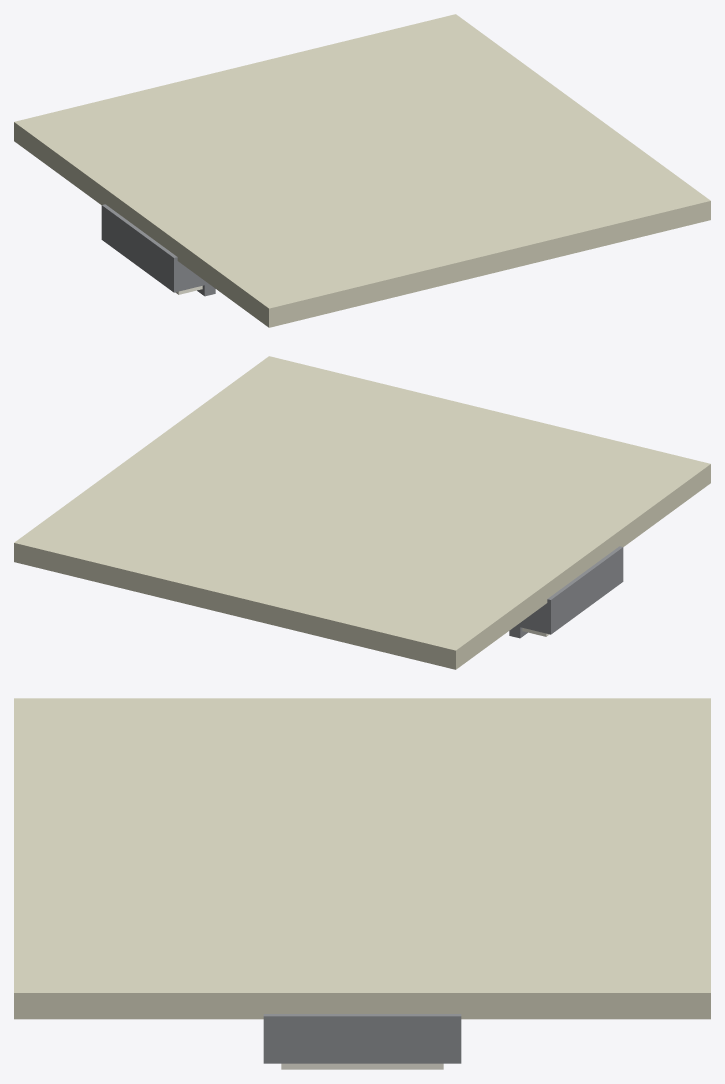
Rendered from PR_lamp_panel_L0.fbx.
The picture shows the model from 3 angles, top to bottom: view 1: azimuth 30°, elevation 25°; view 2: azimuth 150°, elevation 25°; view 3: azimuth 270°, elevation 25°; orthographic projection. The views are drawn at different scales.
Visible parts, largest first — view 1: PR_lamp_panel_L0; view 2: PR_lamp_panel_L0; view 3: PR_lamp_panel_L0.
Boxes of the visible parts, x1,y1,x2,y2 form: PR_lamp_panel_L0: (14, 14, 710, 327); PR_lamp_panel_L0: (14, 356, 710, 669); PR_lamp_panel_L0: (14, 698, 710, 1069).
Bounding box in the file's own units: 1.22 × 0.17 × 1.2.
